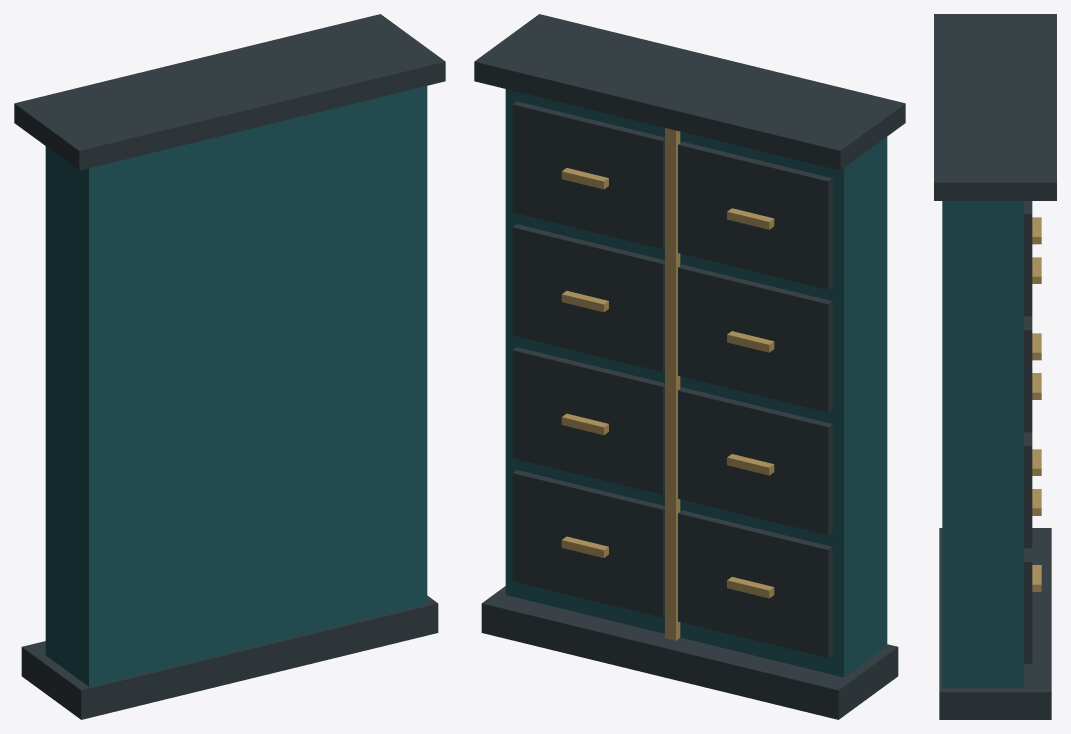
Rendered from VIC_E07_ARCHIVE_CABINET_Roblox.fbx.
The picture shows the model from 3 angles, left to right: view 1: azimuth 30°, elevation 25°; view 2: azimuth 150°, elevation 25°; view 3: azimuth 270°, elevation 25°; orthographic projection. The views are drawn at different scales.
Parts seen in each view (by area): view 1: VIC_E07_ARCHIVE_CABINET__Teal, VIC_E07_ARCHIVE_CABINET__Charcoal; view 2: VIC_E07_ARCHIVE_CABINET__Charcoal, VIC_E07_ARCHIVE_CABINET__Teal, VIC_E07_ARCHIVE_CABINET__Brass; view 3: VIC_E07_ARCHIVE_CABINET__Teal, VIC_E07_ARCHIVE_CABINET__Charcoal, VIC_E07_ARCHIVE_CABINET__Brass.
Part boxes in pixels (x1=…): VIC_E07_ARCHIVE_CABINET__Teal: x1=45, y1=86, x2=427, y2=686; VIC_E07_ARCHIVE_CABINET__Charcoal: x1=14, y1=14, x2=445, y2=719; VIC_E07_ARCHIVE_CABINET__Charcoal: x1=474, y1=14, x2=905, y2=719; VIC_E07_ARCHIVE_CABINET__Teal: x1=505, y1=89, x2=887, y2=677; VIC_E07_ARCHIVE_CABINET__Brass: x1=561, y1=128, x2=774, y2=640; VIC_E07_ARCHIVE_CABINET__Teal: x1=942, y1=201, x2=1023, y2=687; VIC_E07_ARCHIVE_CABINET__Charcoal: x1=934, y1=14, x2=1056, y2=719; VIC_E07_ARCHIVE_CABINET__Brass: x1=1032, y1=217, x2=1041, y2=591.
Size of the model in its own units: 3.9 by 5.82 by 1.2.
